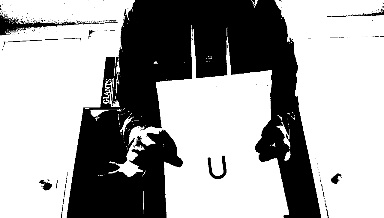U: (202, 154, 230, 179)
